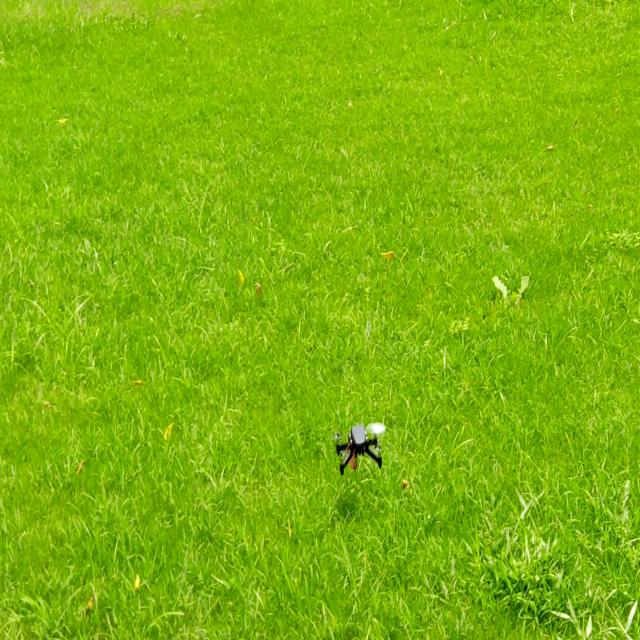drone: (319, 402, 399, 477)
